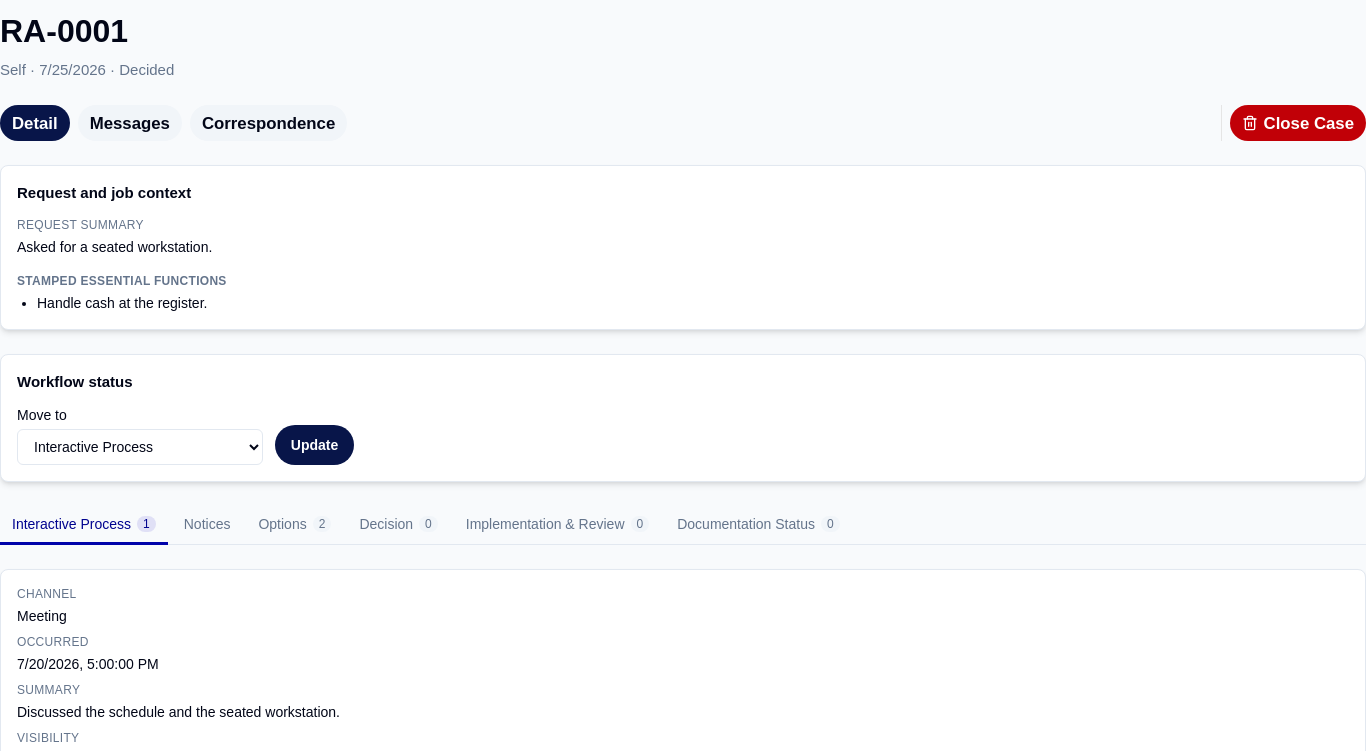
Scenario: the restricted medical surface is Platform Admin / HR Partner only › withdraws a documentation request the moment the need is marked obvious
Click the tab "Documentation status 0": (758, 526) [665,506,852,545]
(page scrolled)
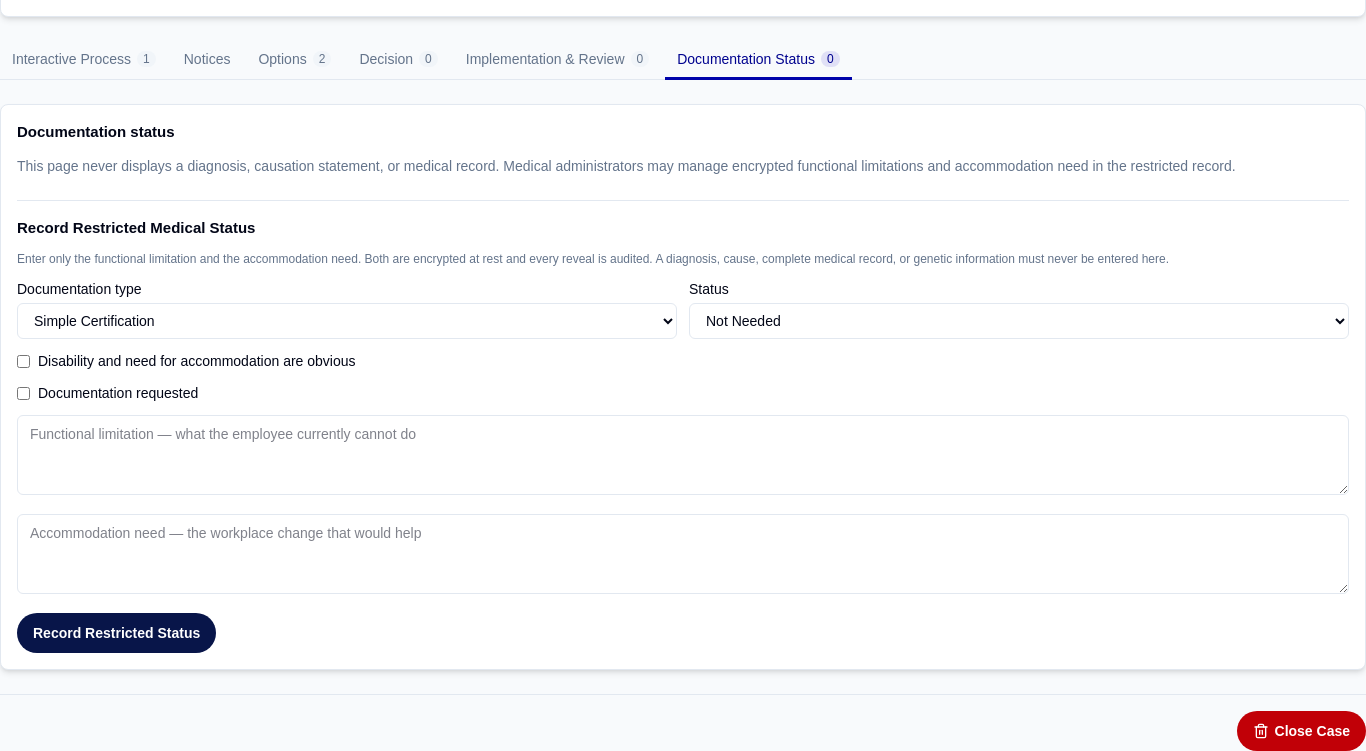
Click the checkbox labelled "Documentation requested": (24, 393) [17,387,30,400]
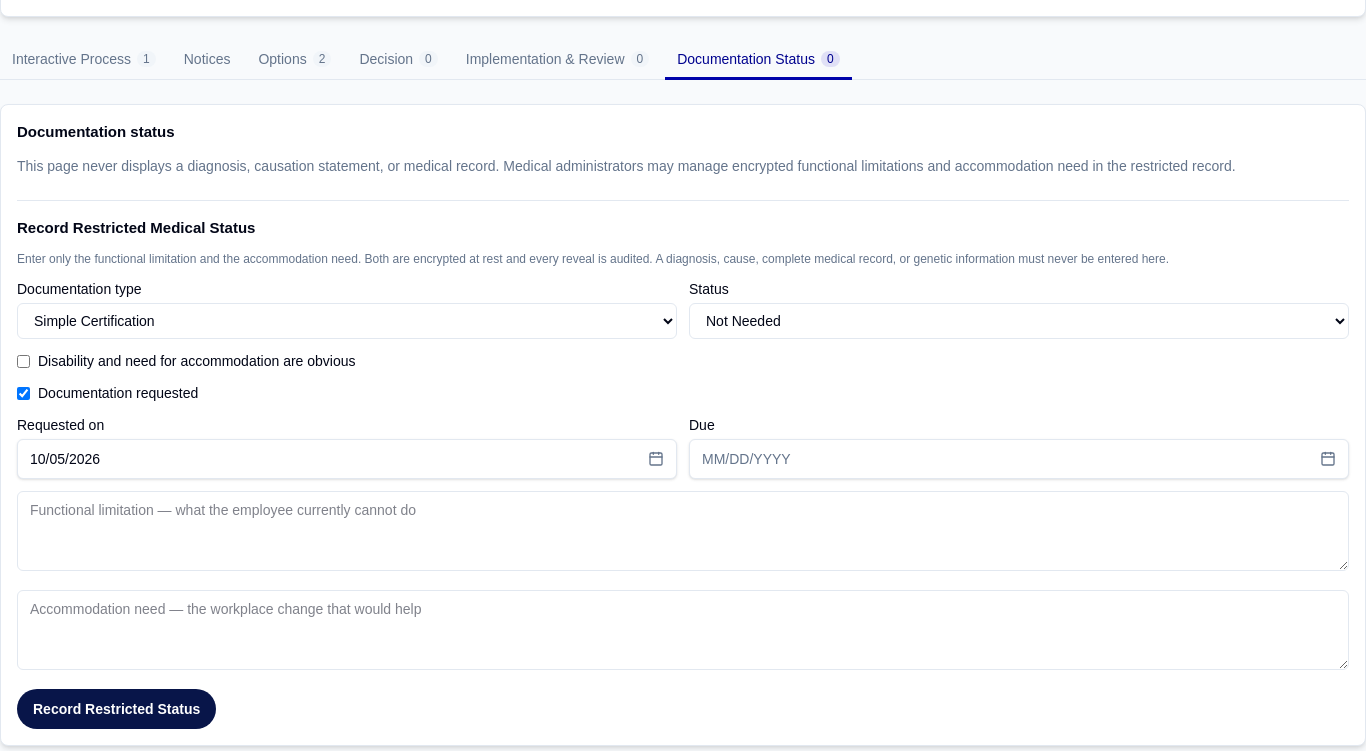
Result: the checkbox labelled "Documentation requested" is checked at [17,387,30,400]
Click the checkbox labelled "Disability and need for accommodation are obvious": (24, 361) [17,355,30,368]
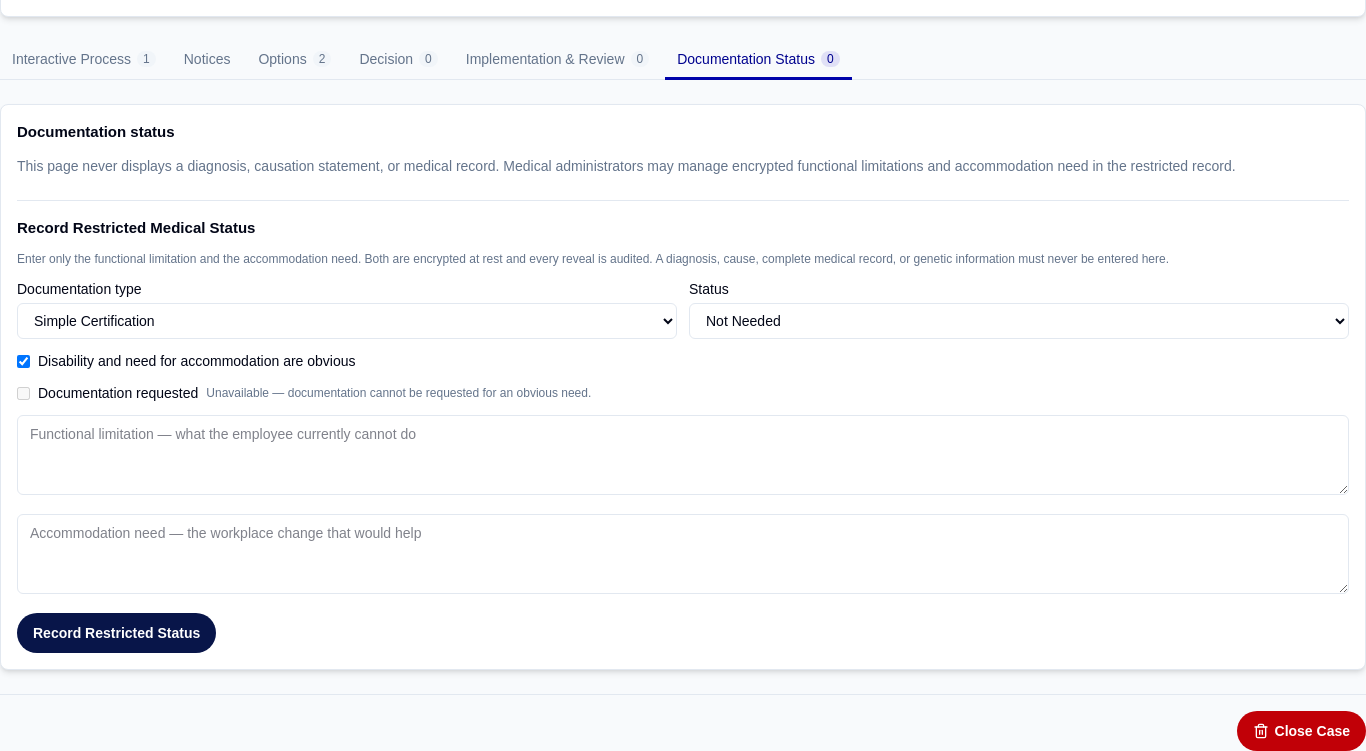
Result: the checkbox labelled "Documentation requested" is not checked at [17,387,30,400]
Result: the checkbox labelled "Documentation requested" is disabled at [17,387,30,400]
